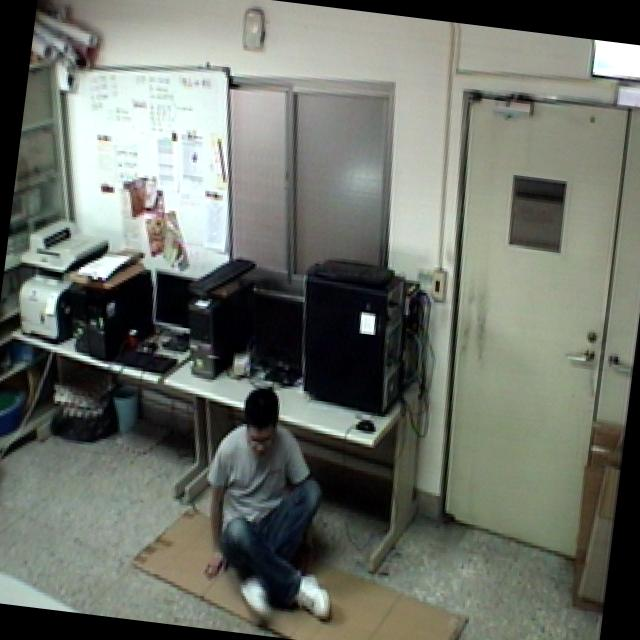sit: (186, 365, 361, 638)
